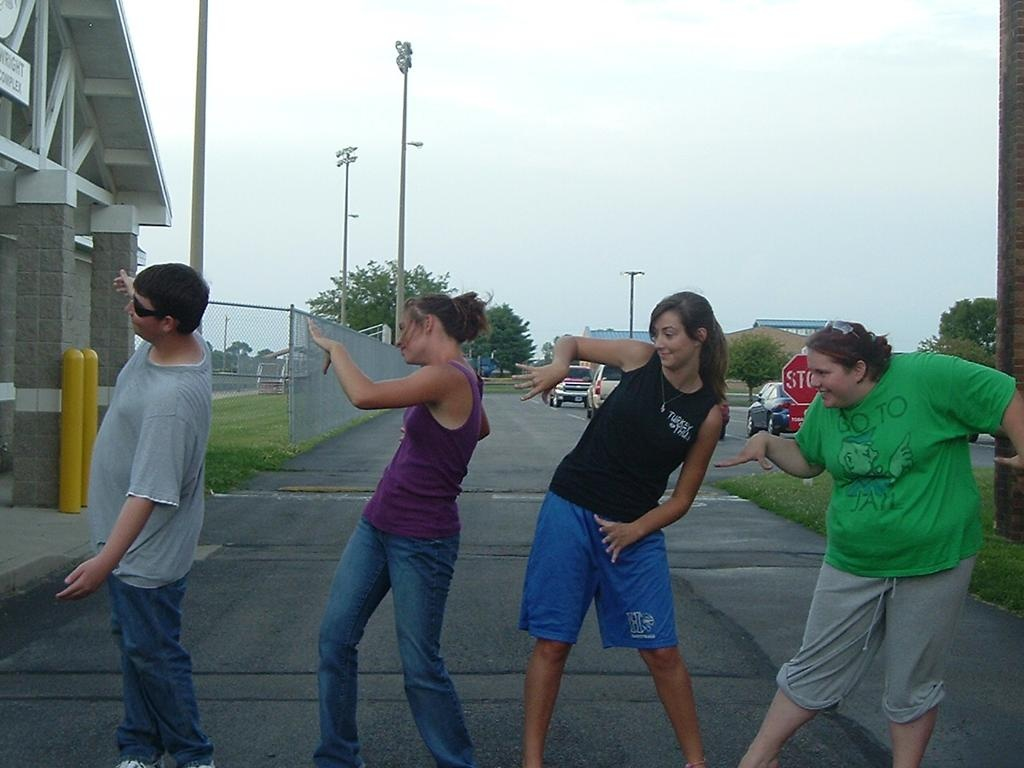human_face: (807, 344, 855, 407), (650, 308, 694, 366), (123, 288, 165, 334), (396, 307, 424, 363)
